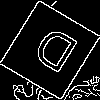D: (24, 25, 81, 83)
